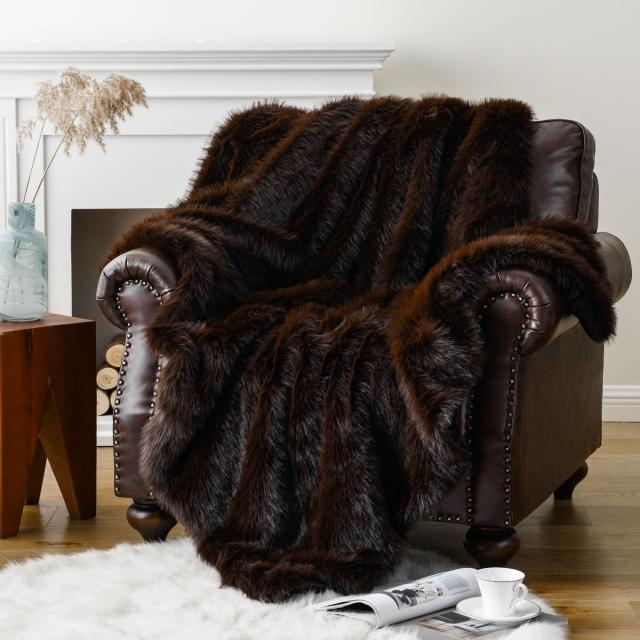blanket: (110, 97, 617, 602)
